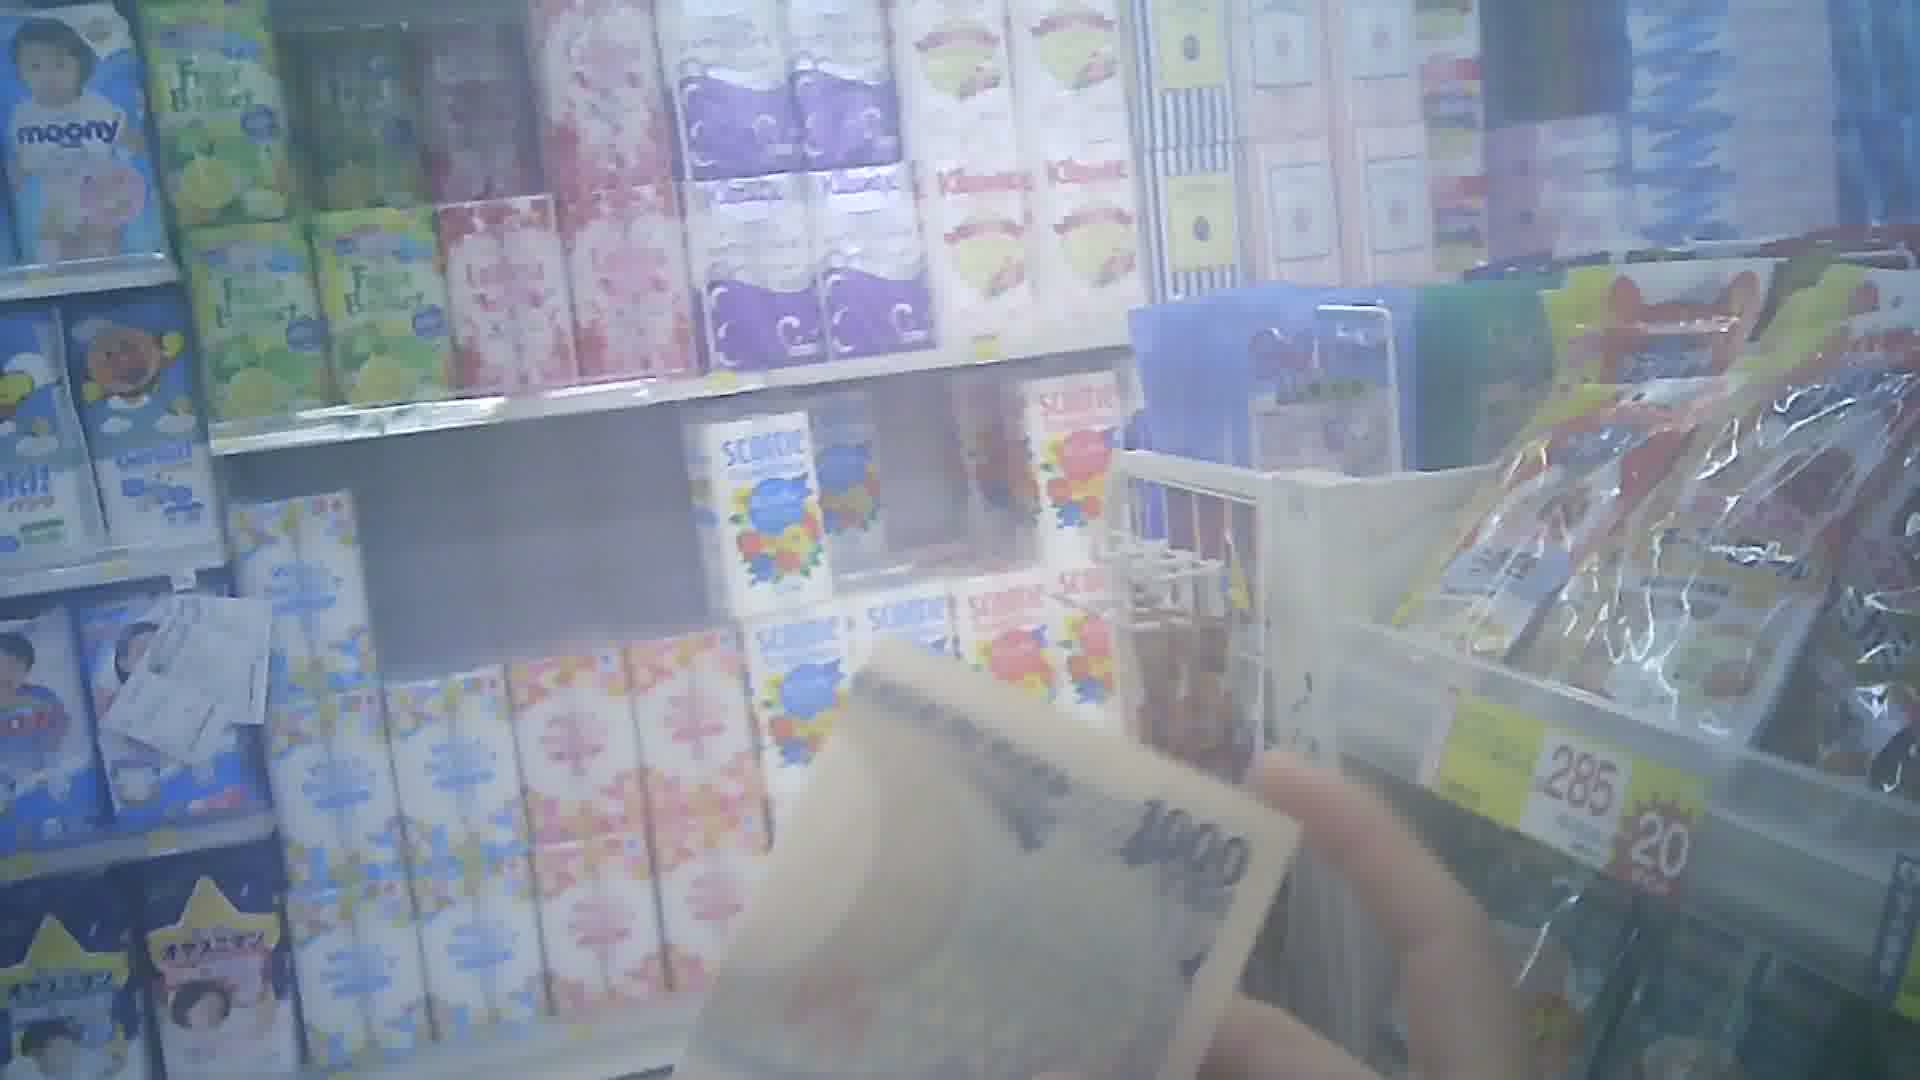1,000 Yen: (683, 637, 1280, 1079)
